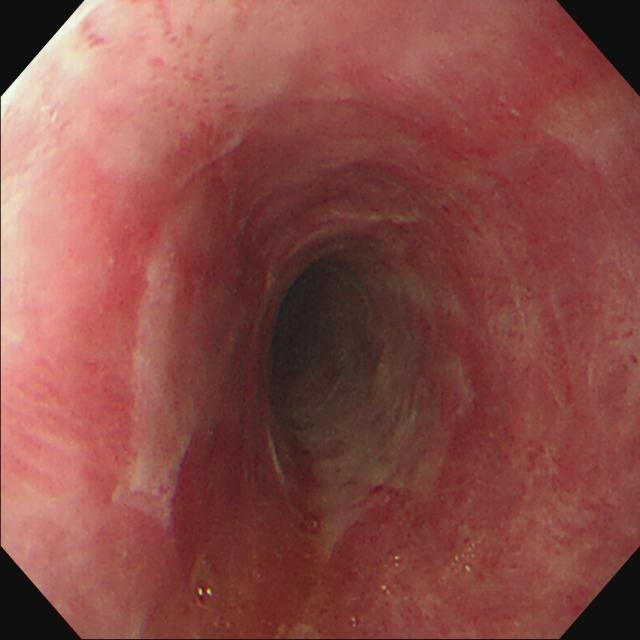A: (472, 160, 640, 640), (142, 430, 318, 640), (76, 177, 168, 503), (320, 474, 470, 640), (172, 101, 278, 301)
T: (191, 576, 222, 614)
